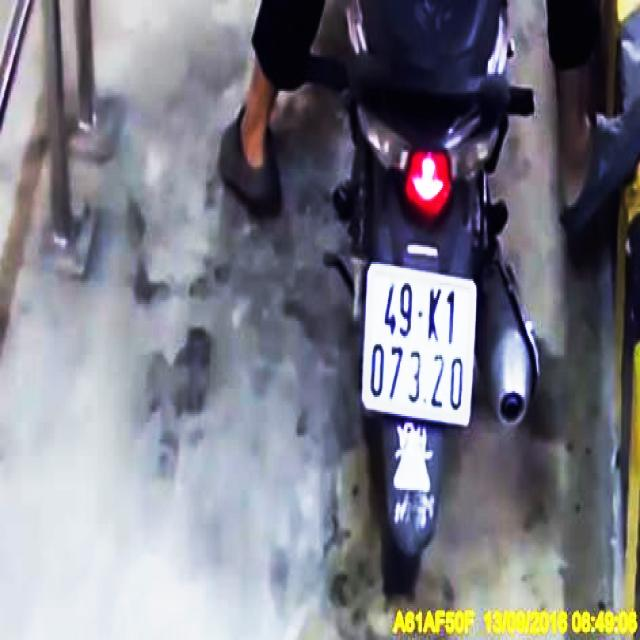license_plate: (363, 265, 479, 425)
